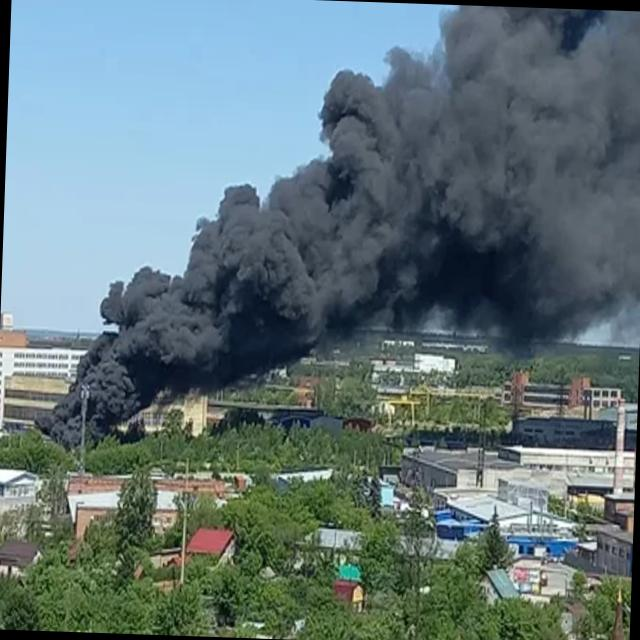Smoke: (36, 0, 640, 457)
